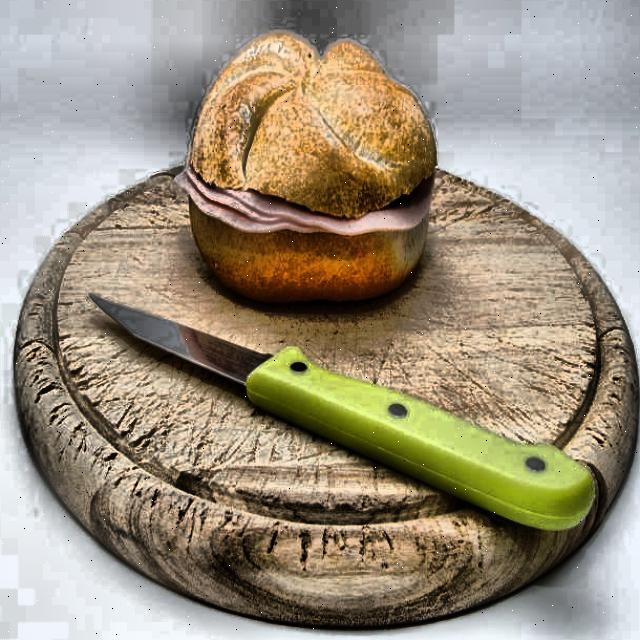knife: (90, 283, 599, 532)
